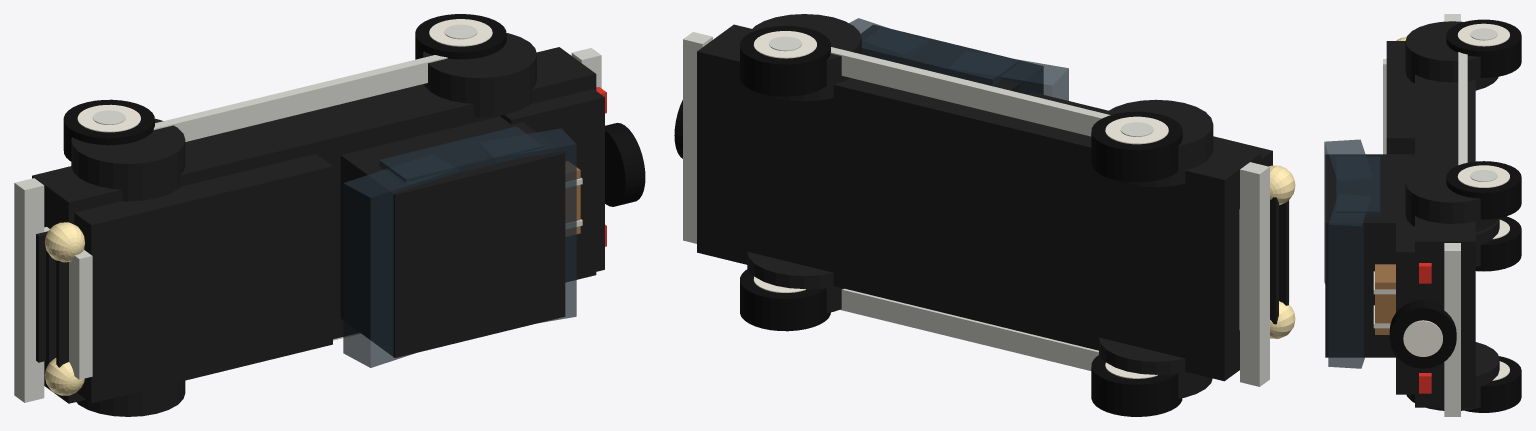
File: gangster_car_1930_lowpoly.glb
The picture shows the model from 3 angles, left to right: view 1: azimuth 30°, elevation 25°; view 2: azimuth 150°, elevation 25°; view 3: azimuth 270°, elevation 25°; orthographic projection. The views are drawn at different scales.
Parts seen in each view (by area): view 1: long_motor_hood, boxy_passenger_cabin, long_rounded_body_block, front_windshield_dark, rear_trunk, L_running_board, L_rounded_fender_-1.65, L_rounded_fender_1.55, front_chrome_bumper, left_side_window_dark, rear_window_dark, vertical_chrome_grille (+13 smaller); view 2: long_rounded_body_block, L_running_board, front_chrome_bumper, R_running_board, left_side_window_dark, L_black_tire_-1.65, L_black_tire_1.55, R_black_tire_-1.65, R_black_tire_1.55, boxy_passenger_cabin, L_rounded_fender_-1.65, rear_chrome_bumper (+12 smaller); view 3: boxy_passenger_cabin, long_rounded_body_block, rear_window_dark, L_rounded_fender_1.55, L_rounded_fender_-1.65, long_motor_hood, left_side_window_dark, rear_spare_tire, rear_chrome_bumper, L_black_tire_1.55, L_black_tire_-1.65, rear_trunk (+15 smaller).
Part boxes in pixels (x1=…): long_motor_hood: x1=74, y1=154, x2=332, y2=403; boxy_passenger_cabin: x1=340, y1=116, x2=565, y2=357; long_rounded_body_block: x1=32, y1=47, x2=596, y2=403; front_windshield_dark: x1=343, y1=155, x2=457, y2=367; rear_trunk: x1=500, y1=89, x2=604, y2=278; L_running_board: x1=153, y1=55, x2=447, y2=141; L_rounded_fender_-1.65: x1=71, y1=118, x2=185, y2=201; L_rounded_fender_1.55: x1=423, y1=33, x2=536, y2=117; front_chrome_bumper: x1=14, y1=178, x2=44, y2=402; left_side_window_dark: x1=379, y1=126, x2=543, y2=184; rear_window_dark: x1=479, y1=128, x2=576, y2=322; vertical_chrome_grille: x1=42, y1=227, x2=92, y2=379; long_rounded_body_block: x1=697, y1=24, x2=1261, y2=381; L_running_board: x1=830, y1=47, x2=1110, y2=136; front_chrome_bumper: x1=1240, y1=162, x2=1269, y2=386; R_running_board: x1=840, y1=288, x2=1098, y2=370; left_side_window_dark: x1=861, y1=27, x2=1019, y2=85; L_black_tire_-1.65: x1=1091, y1=111, x2=1182, y2=182; L_black_tire_1.55: x1=740, y1=26, x2=830, y2=96; R_black_tire_-1.65: x1=1091, y1=354, x2=1182, y2=416; R_black_tire_1.55: x1=740, y1=269, x2=830, y2=331; boxy_passenger_cabin: x1=860, y1=25, x2=1043, y2=94; L_rounded_fender_-1.65: x1=1105, y1=99, x2=1213, y2=186; rear_chrome_bumper: x1=683, y1=32, x2=712, y2=243; boxy_passenger_cabin: x1=1325, y1=154, x2=1414, y2=357; long_rounded_body_block: x1=1415, y1=74, x2=1475, y2=407; rear_window_dark: x1=1328, y1=194, x2=1370, y2=368; L_rounded_fender_1.55: x1=1405, y1=163, x2=1498, y2=231; L_rounded_fender_-1.65: x1=1405, y1=21, x2=1498, y2=90; long_motor_hood: x1=1386, y1=41, x2=1414, y2=154; left_side_window_dark: x1=1336, y1=156, x2=1380, y2=216; rear_spare_tire: x1=1389, y1=300, x2=1456, y2=368; rear_chrome_bumper: x1=1444, y1=243, x2=1460, y2=416; L_black_tire_1.55: x1=1446, y1=161, x2=1521, y2=219; L_black_tire_-1.65: x1=1446, y1=19, x2=1521, y2=77; rear_trunk: x1=1396, y1=215, x2=1414, y2=394.
Bounding box in the file's own units: 5.37 × 2.35 × 1.88.
